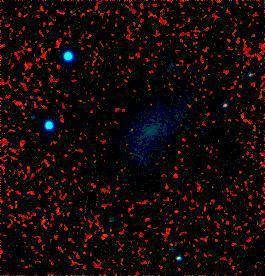star: (119, 115, 149, 145)
